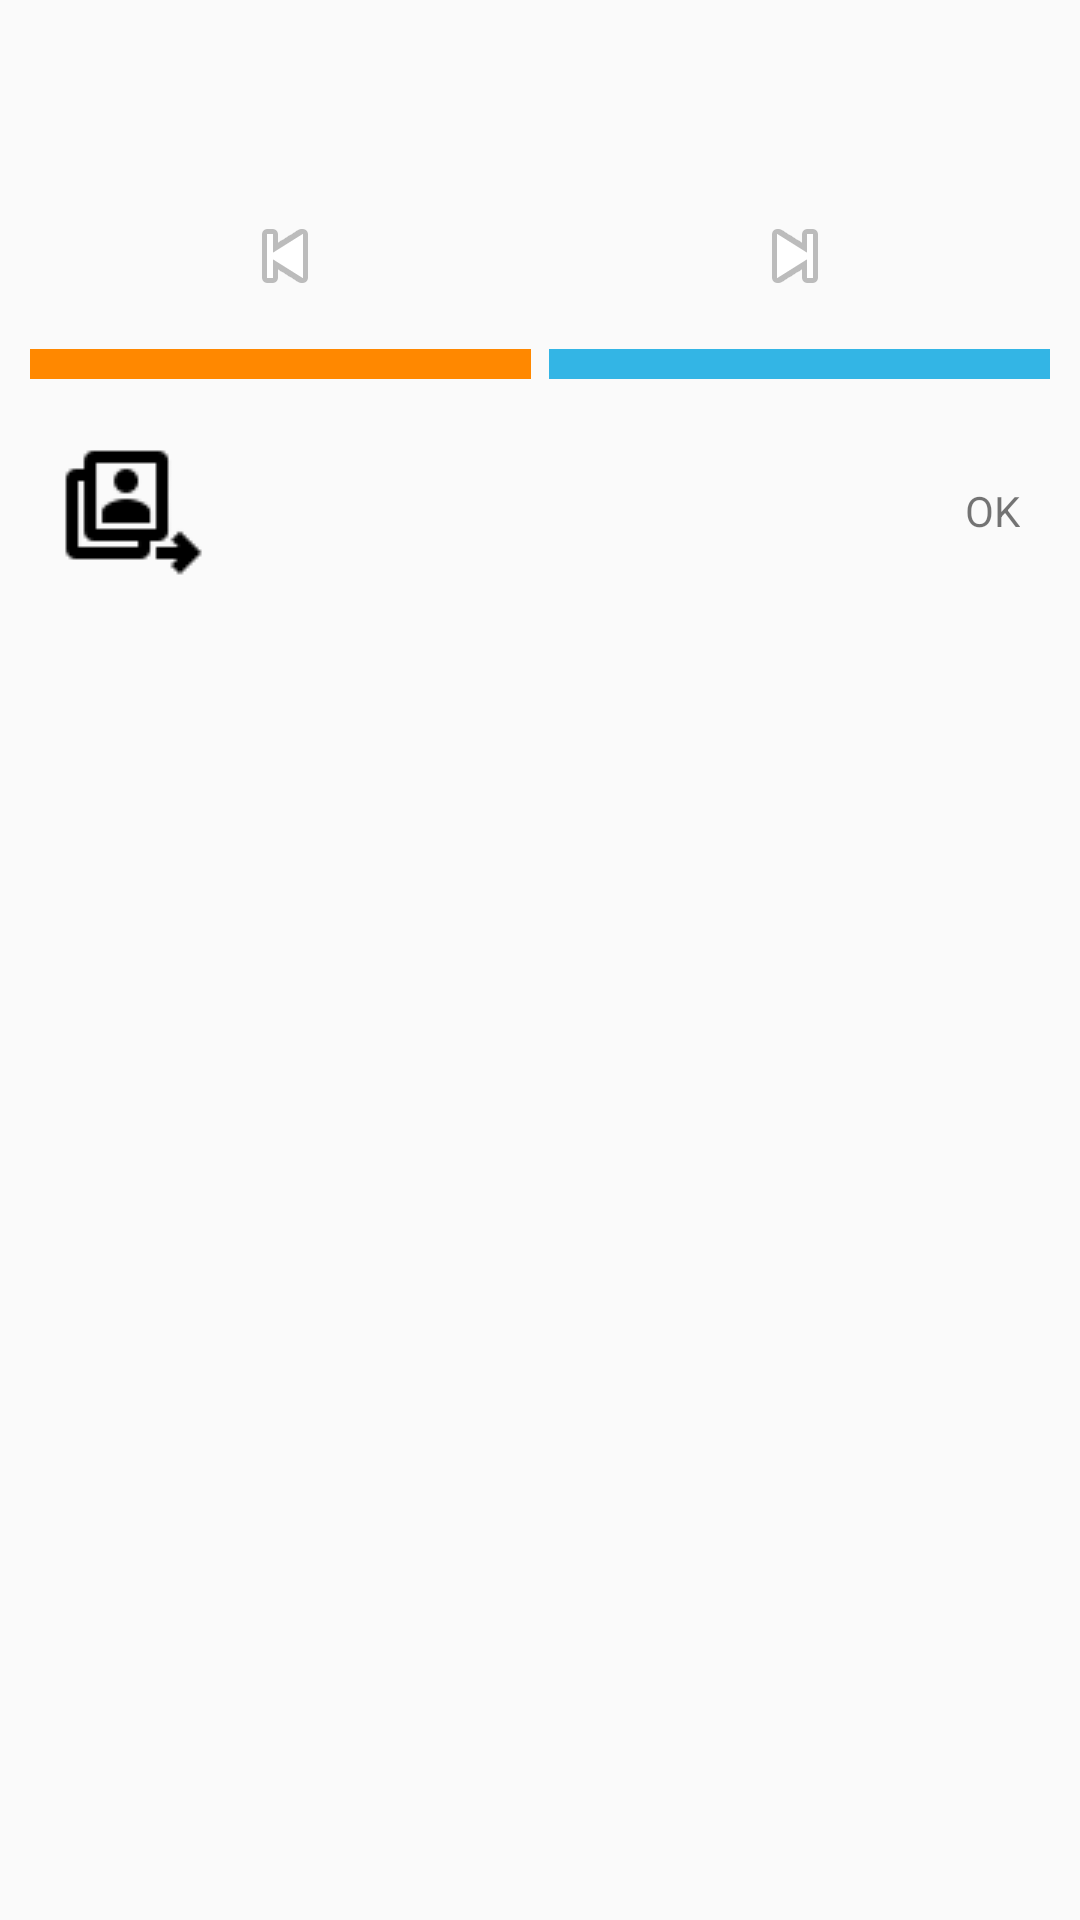

Icons on this 1080×1920 Android screen, each with its box as (x1, y1, x2, y2):
next: (772, 229, 818, 283)
previous: (262, 229, 308, 283)
send: (65, 450, 202, 575)
